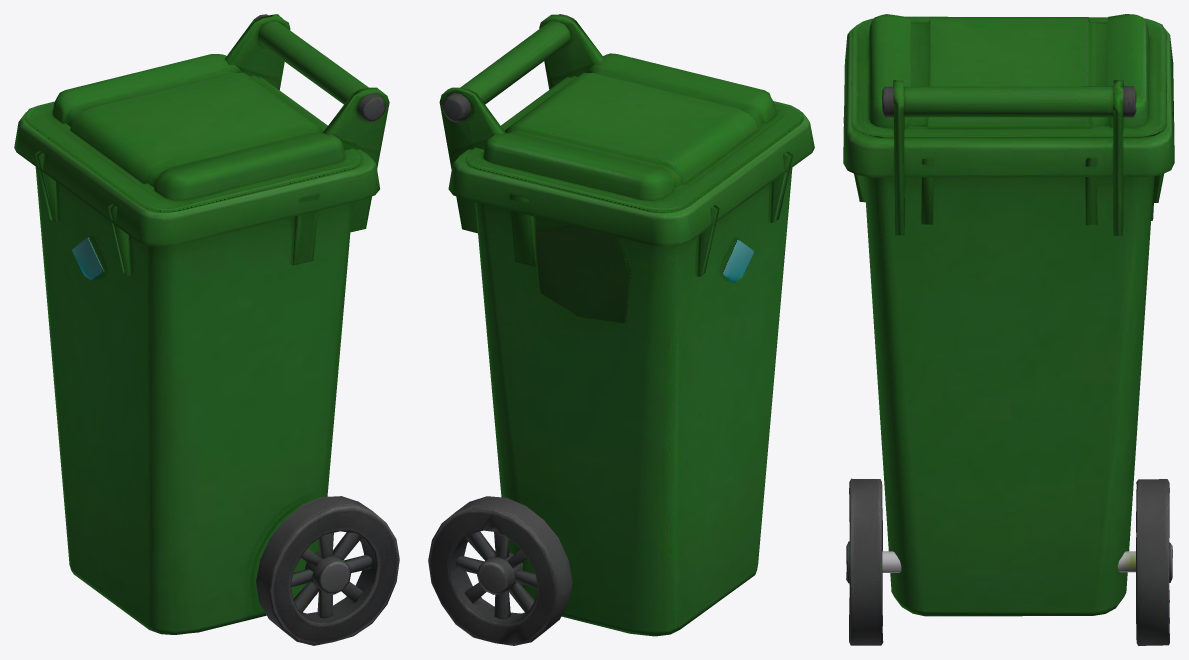
The model's file is wheelie-bin.glb.
3 views of the same model, side by side, from view 1: azimuth 30°, elevation 25°; view 2: azimuth 150°, elevation 25°; view 3: azimuth 270°, elevation 25° (orthographic). The views are drawn at different scales.
Visible parts, largest first — view 1: wheelie-bin; view 2: wheelie-bin; view 3: wheelie-bin.
Part boxes in pixels (x1,y1,x2,y2): wheelie-bin: [14, 14, 399, 645]; wheelie-bin: [428, 14, 814, 645]; wheelie-bin: [843, 14, 1174, 645].
Bounding box in the file's own units: 0.5803 × 1.1 × 0.5703.
Materials: 1 (1 with a texture image).
